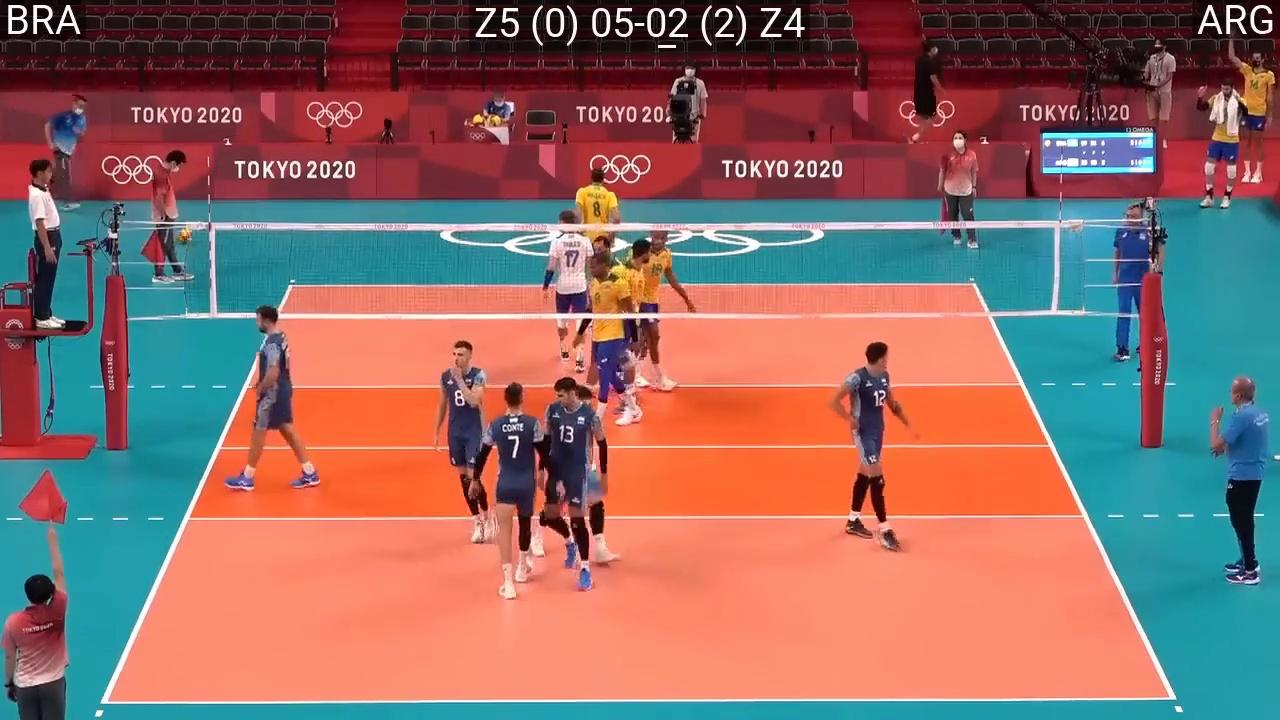ball: (178, 227, 193, 243)
